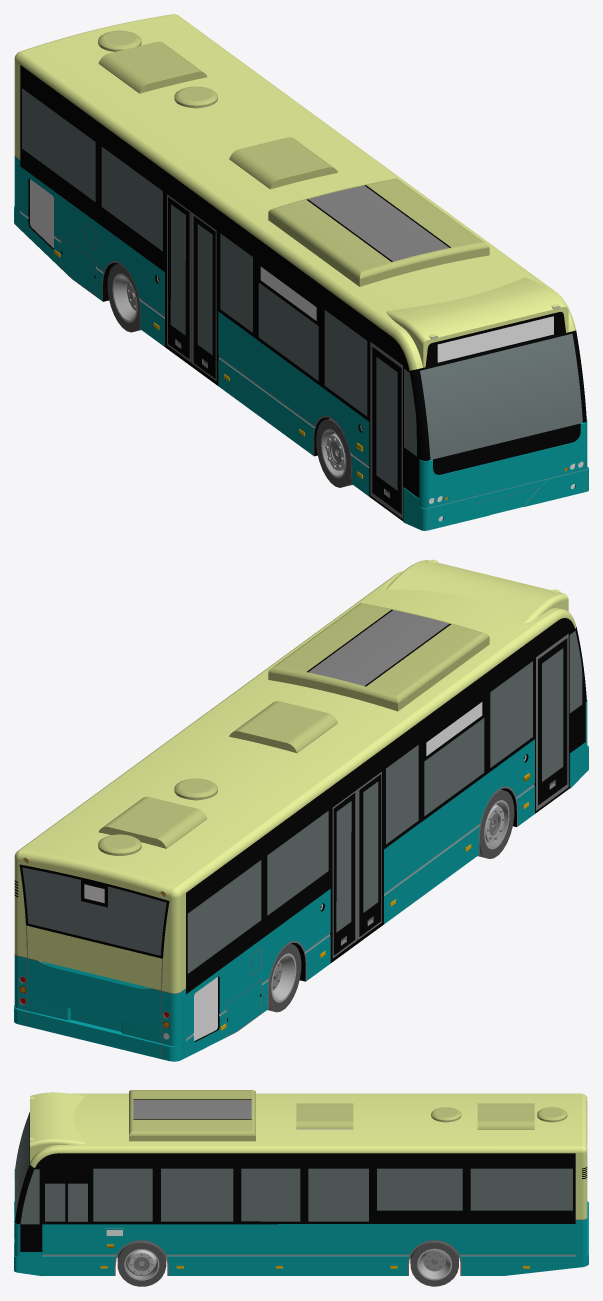
Rendered from bus.glb.
3 views of the same model, one above another, from view 1: azimuth 30°, elevation 25°; view 2: azimuth 150°, elevation 25°; view 3: azimuth 270°, elevation 25° (orthographic). The views are drawn at different scales.
Parts seen in each view (by area): view 1: Layer0_001; view 2: Layer0_001; view 3: Layer0_001.
Boxes of the visible parts, box(x1,y1,x2,y2) form: Layer0_001: box(14, 14, 588, 530); Layer0_001: box(14, 559, 588, 1061); Layer0_001: box(14, 1090, 588, 1286).
Size of the model in its own units: 2.16 by 2.64 by 9.18.
